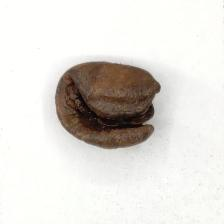NG: (63, 71, 162, 140)
